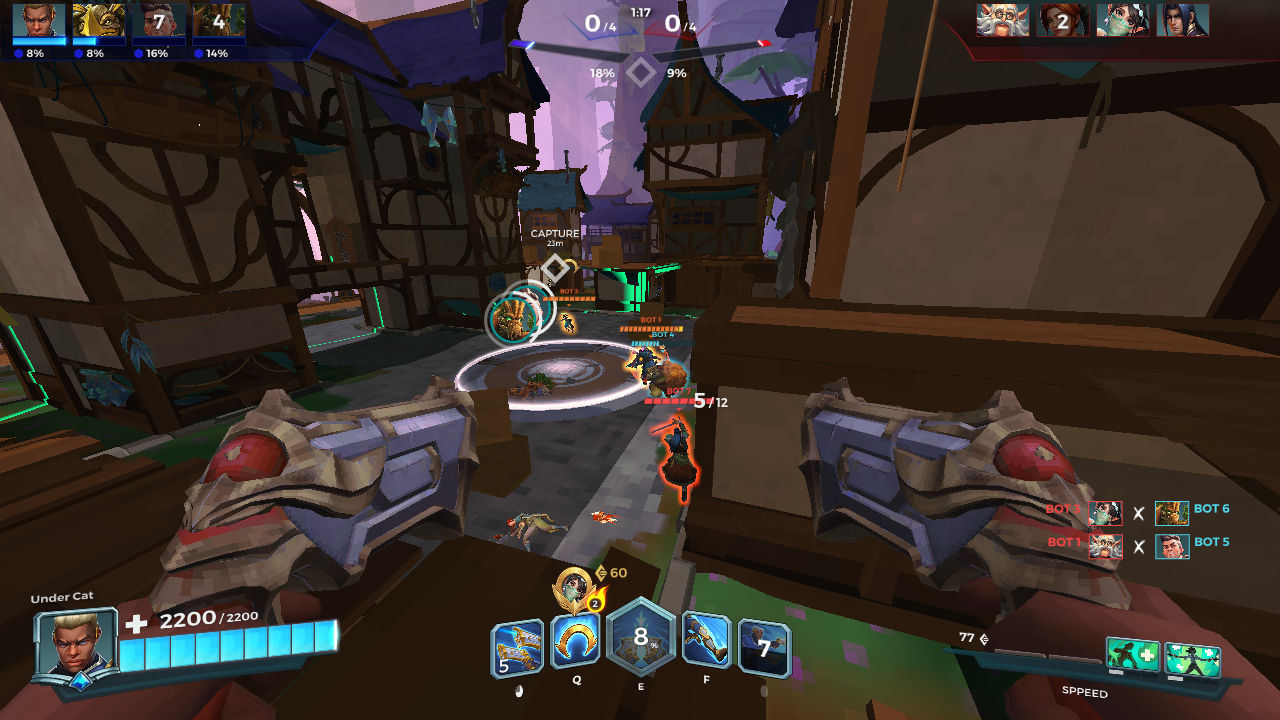model: (653, 410, 701, 502), (630, 340, 667, 402), (553, 304, 585, 341)
